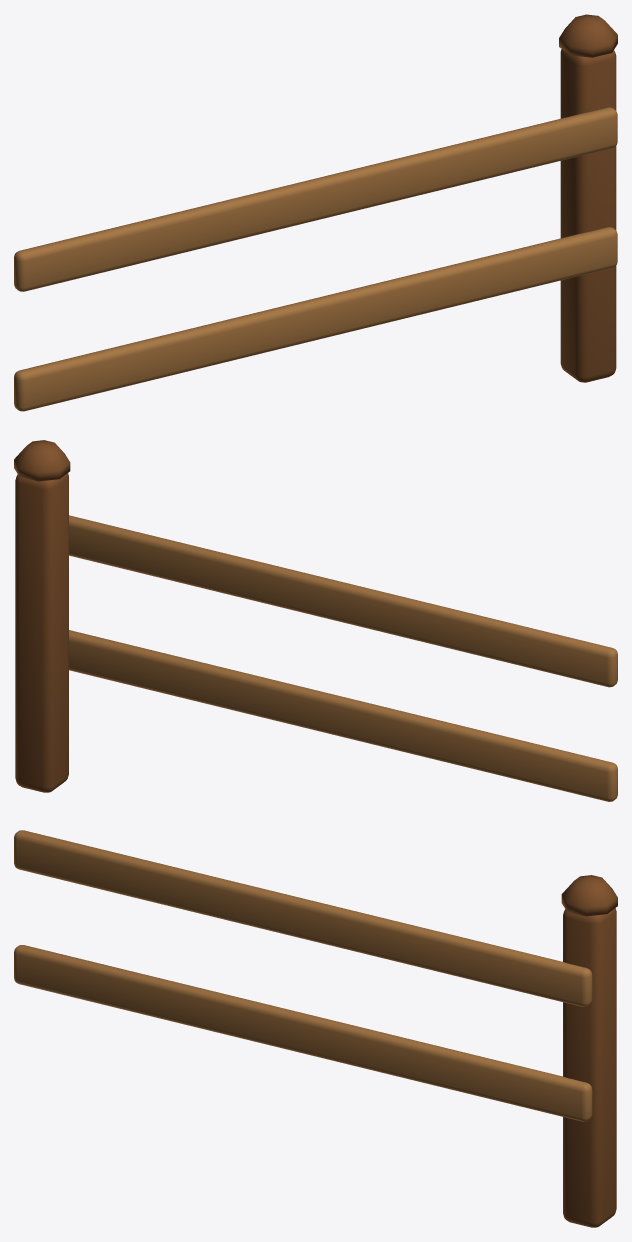
Rendered from fence_section.glb.
3 renders of one model, top to bottom at view 1: azimuth 30°, elevation 25°; view 2: azimuth 150°, elevation 25°; view 3: azimuth 330°, elevation 25°, orthographic. The views are drawn at different scales.
Parts seen in each view (by area): view 1: fence_section; view 2: fence_section; view 3: fence_section.
Part boxes in pixels (x1,y1,x2,y2): fence_section: (14, 14, 617, 411); fence_section: (14, 440, 617, 801); fence_section: (14, 830, 617, 1227).
Bounding box in the file's own units: 2.13 × 1.19 × 0.1881.
